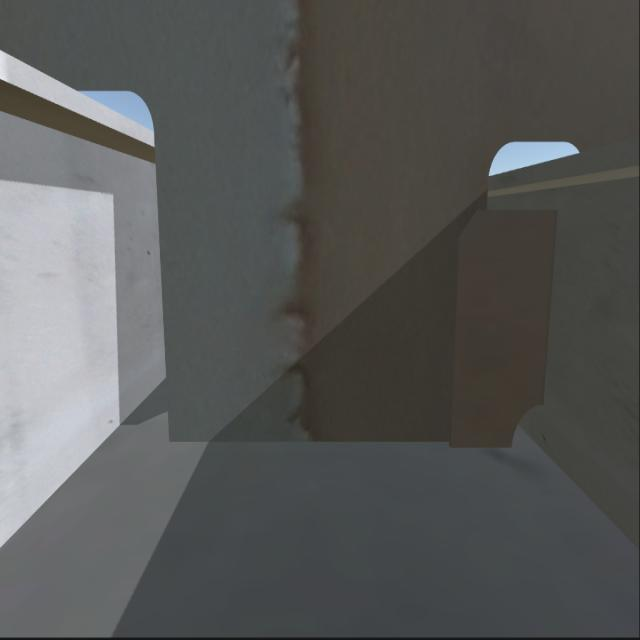fillet_hole: (509, 390, 547, 450)
fillet_yong_jeop_jang: (168, 441, 506, 450)
longi_yong_jeop_jang: (542, 221, 558, 388)
plate_CP03: (459, 209, 555, 451)
